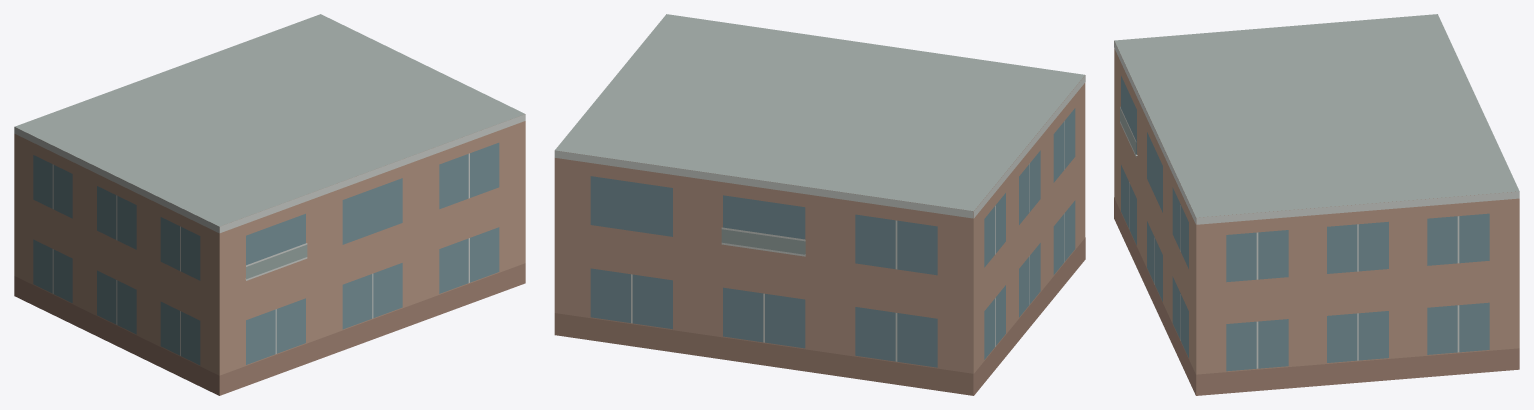
The model's file is survey-upis-33033842.glb.
3 renders of one model, left to right at view 1: azimuth 30°, elevation 25°; view 2: azimuth 150°, elevation 25°; view 3: azimuth 270°, elevation 25°, orthographic. The views are drawn at different scales.
Parts seen in each view (by area): view 1: survey-upis-33033842.tmp; view 2: survey-upis-33033842.tmp; view 3: survey-upis-33033842.tmp.
Part boxes in pixels (x1,y1,x2,y2): survey-upis-33033842.tmp: (14, 14, 525, 395); survey-upis-33033842.tmp: (554, 14, 1085, 395); survey-upis-33033842.tmp: (1114, 14, 1519, 395).
Bounding box in the file's own units: 14.97 × 6.1 × 12.59.
